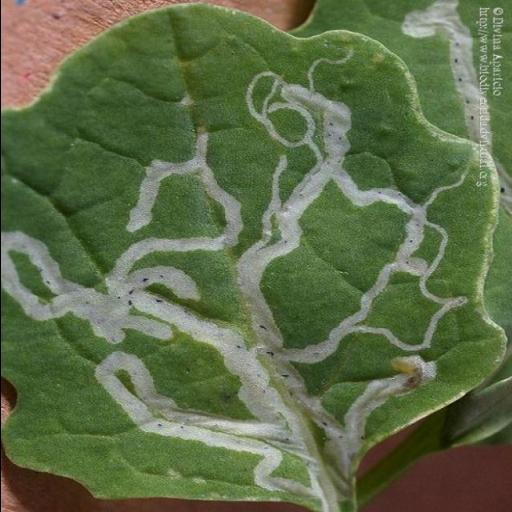disease_tomato: (1, 0, 507, 502)
